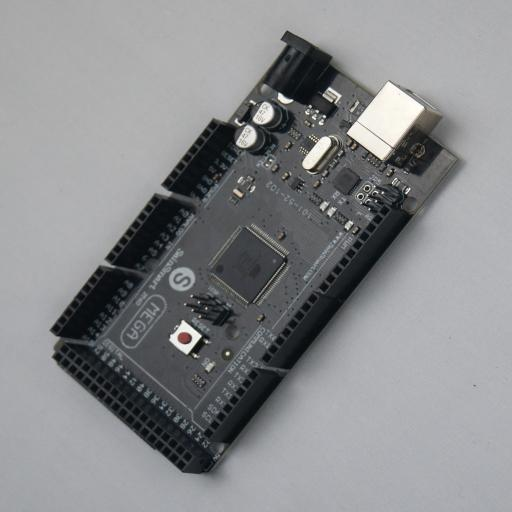Arduino Mega 2560 -Black-: (50, 30, 462, 478)
